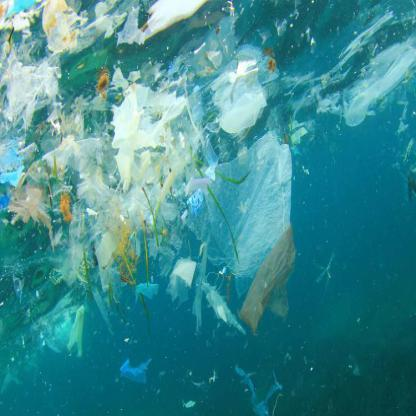waste: (43, 135, 119, 276), (212, 138, 294, 267), (113, 85, 186, 172), (213, 61, 267, 136), (7, 50, 59, 108), (202, 281, 247, 338), (42, 0, 77, 56), (9, 185, 50, 227), (171, 256, 196, 303)
